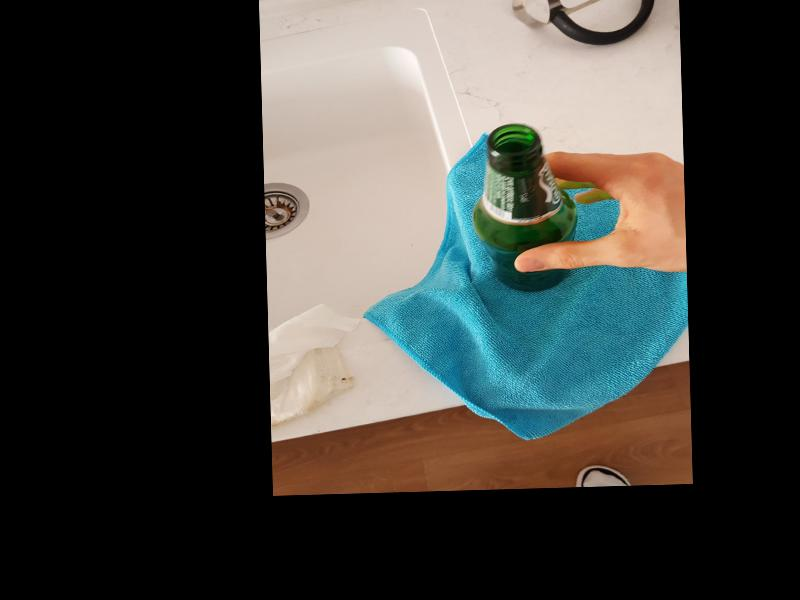Beer: (471, 125, 571, 295)
